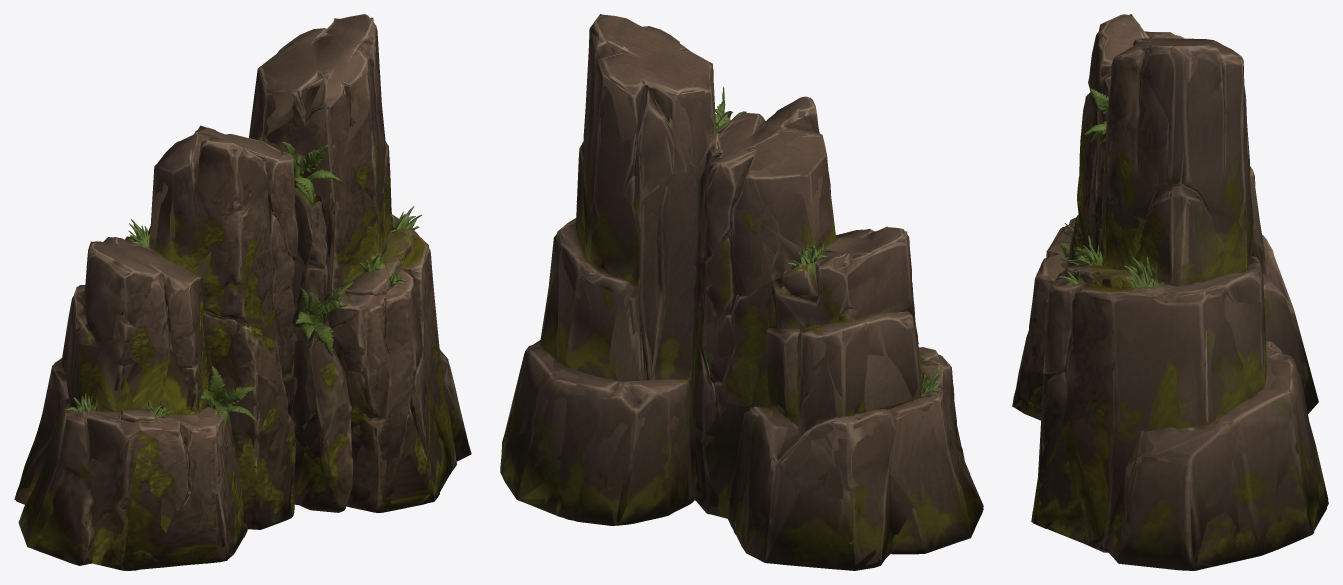
Rendered from JGH_CliffMass_C.fbx.
3 renders of one model, left to right at view 1: azimuth 30°, elevation 25°; view 2: azimuth 150°, elevation 25°; view 3: azimuth 270°, elevation 25°, orthographic. The views are drawn at different scales.
Visible parts, largest first — view 1: JGH_CliffMass_C, JGH_CliffMass_C_far; view 2: JGH_CliffMass_C, JGH_CliffMass_C_far; view 3: JGH_CliffMass_C, JGH_CliffMass_C_far.
Part boxes in pixels (left/top/right/bottom): JGH_CliffMass_C: left=16, top=14, right=471, bottom=570; JGH_CliffMass_C_far: left=14, top=17, right=468, bottom=569; JGH_CliffMass_C: left=500, top=14, right=983, bottom=570; JGH_CliffMass_C_far: left=503, top=14, right=983, bottom=570; JGH_CliffMass_C: left=1013, top=14, right=1328, bottom=570; JGH_CliffMass_C_far: left=1012, top=14, right=1328, bottom=563.
Bounding box in the file's own units: 580 × 546 × 328.
2 materials, 2 textured.
